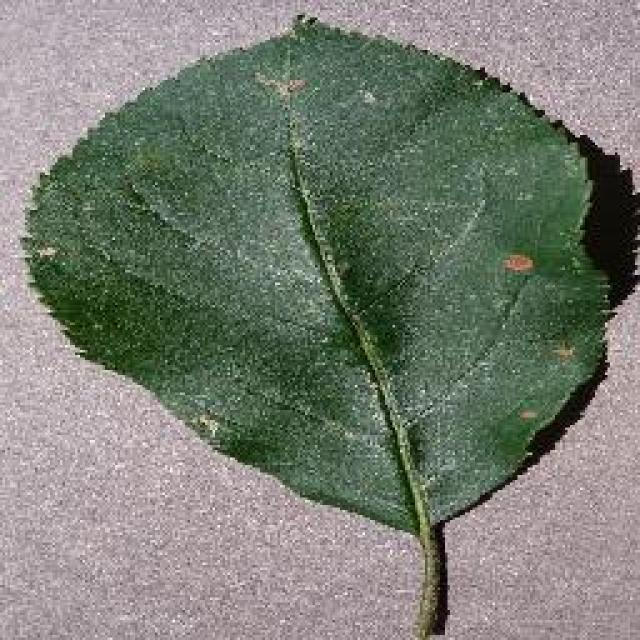Black_rot: (17, 10, 615, 638)
